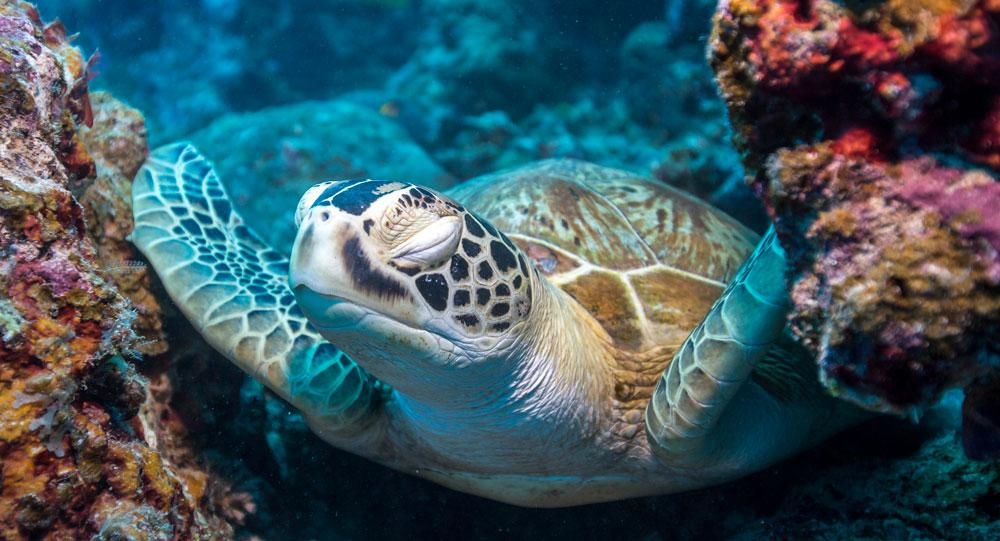turtle: (277, 166, 544, 418)
